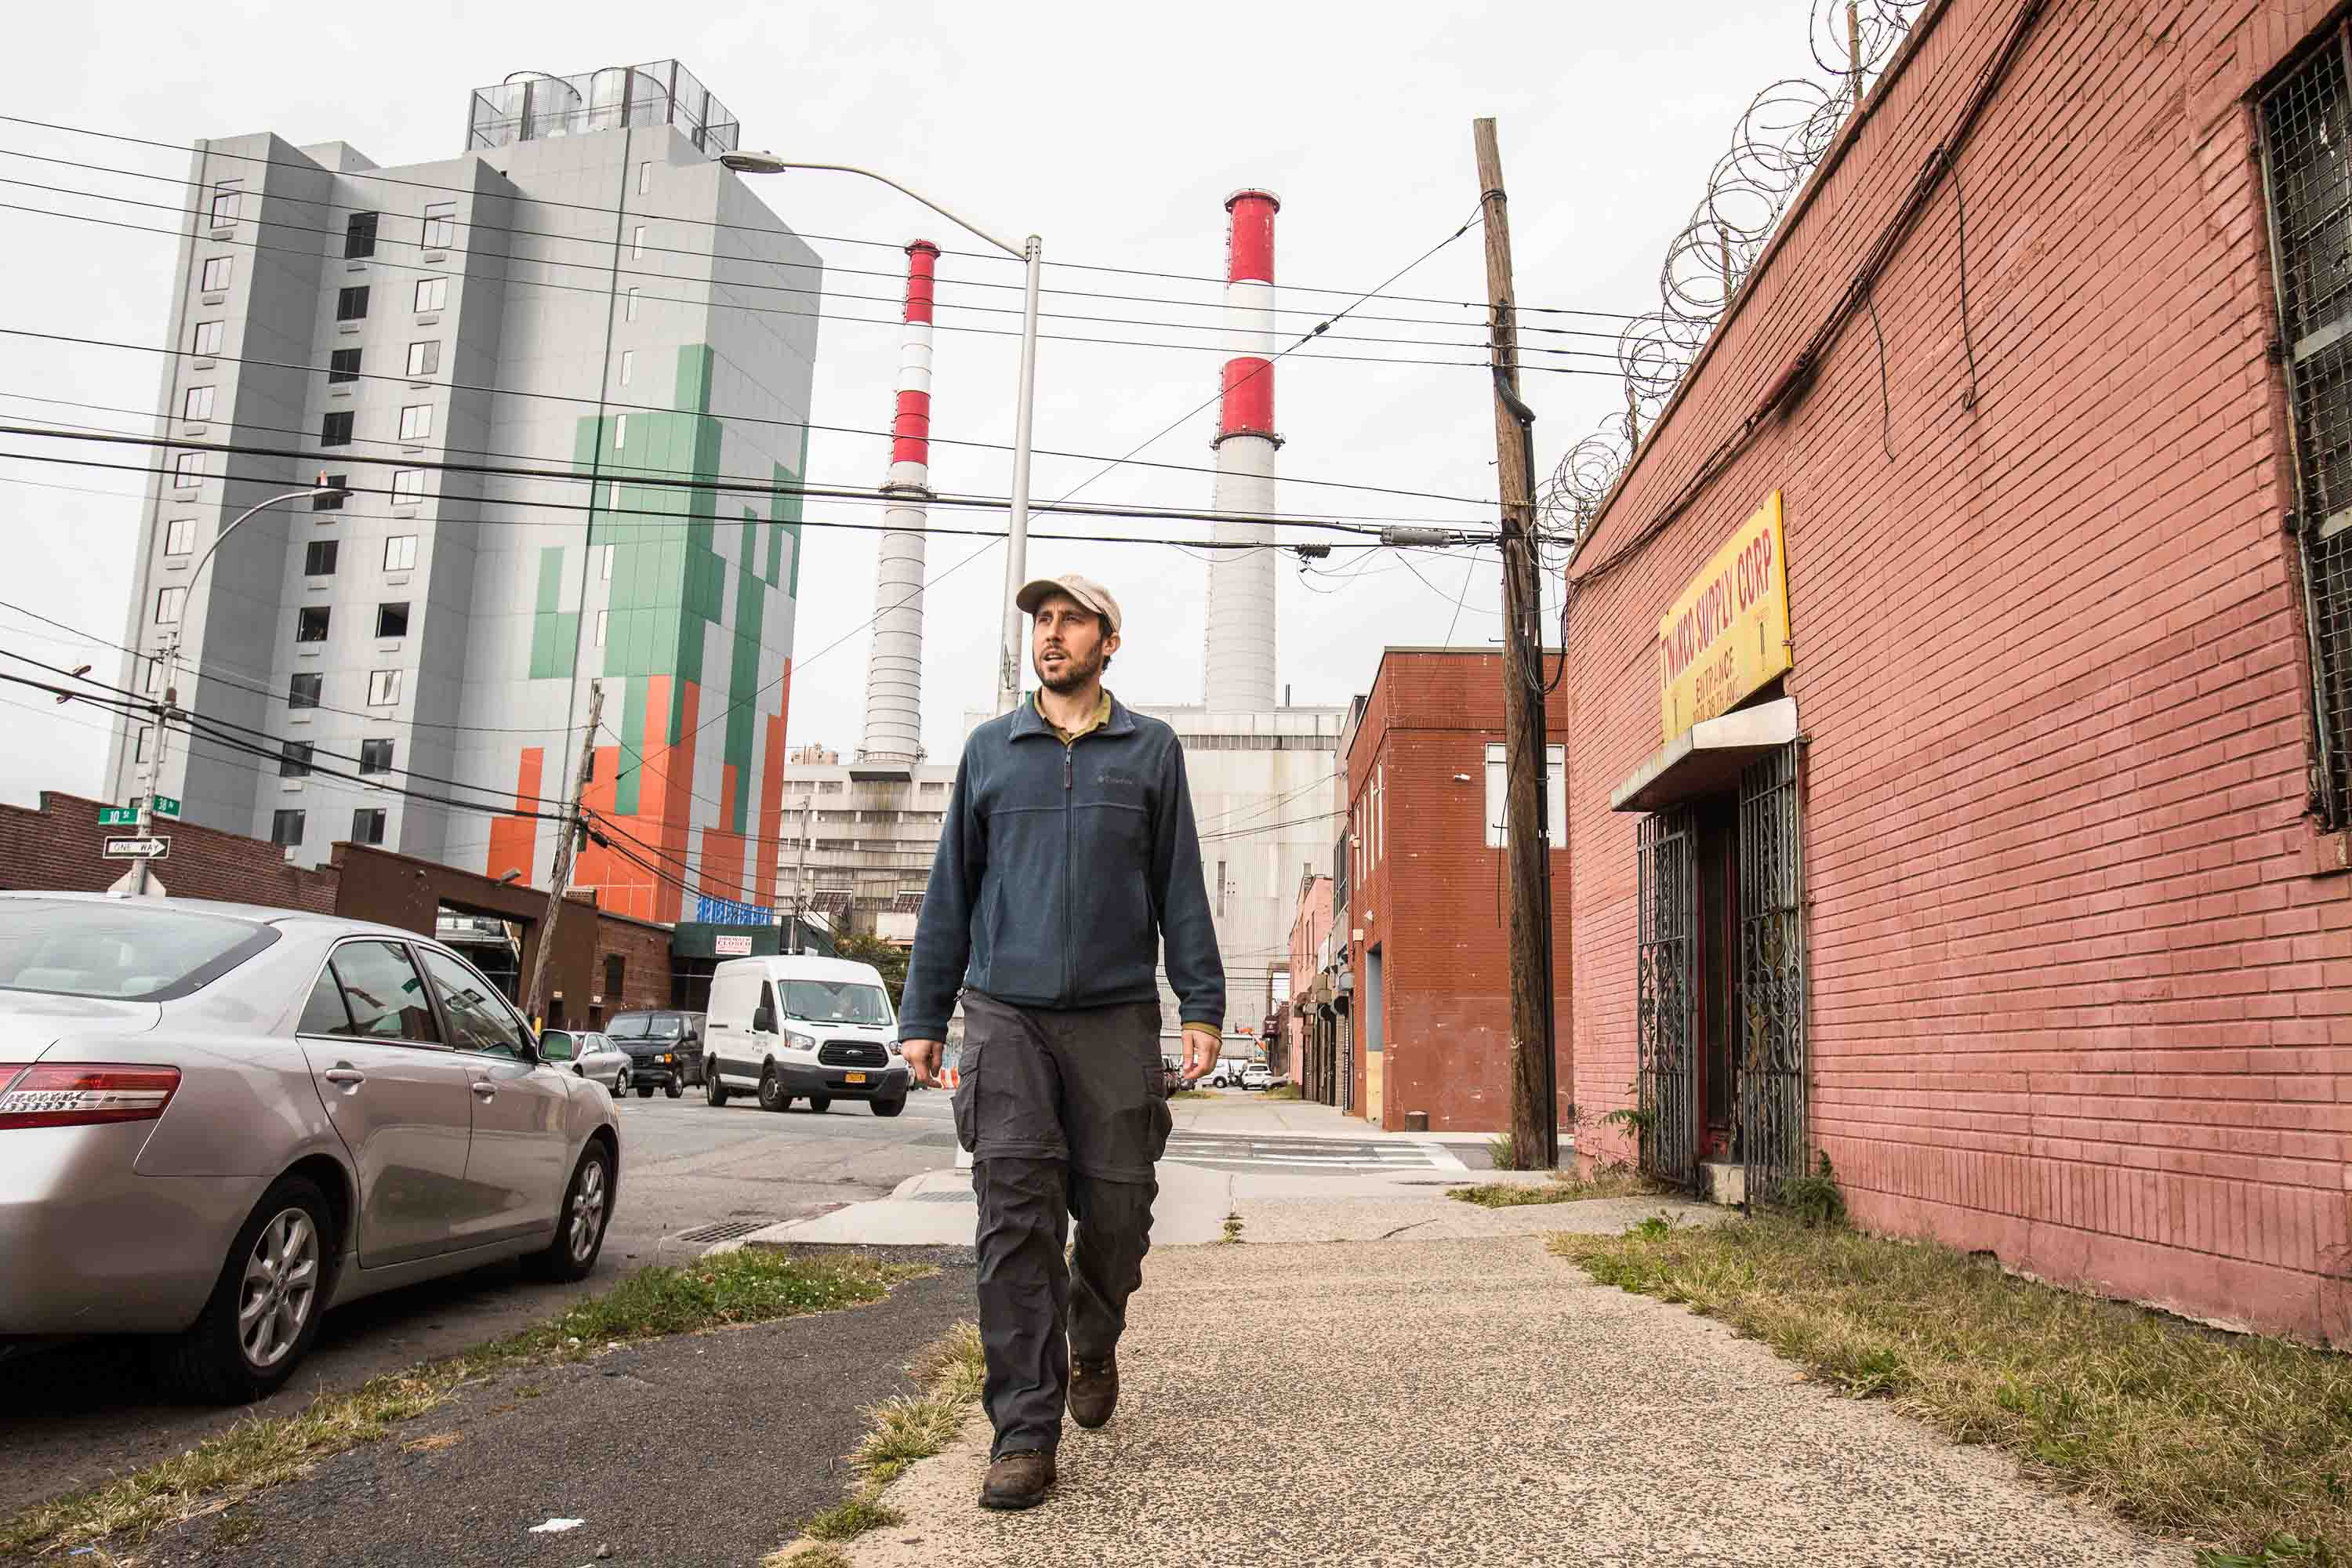car: (1, 900, 630, 1413), (699, 953, 912, 1122), (598, 996, 712, 1094)
person: (884, 561, 1234, 1518)
